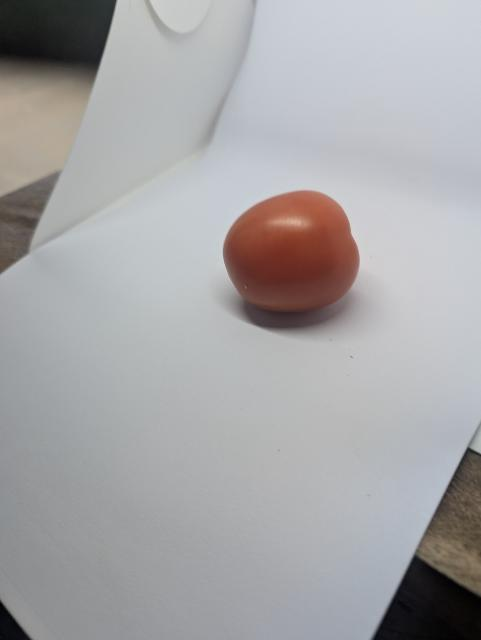red: (216, 179, 374, 331)
